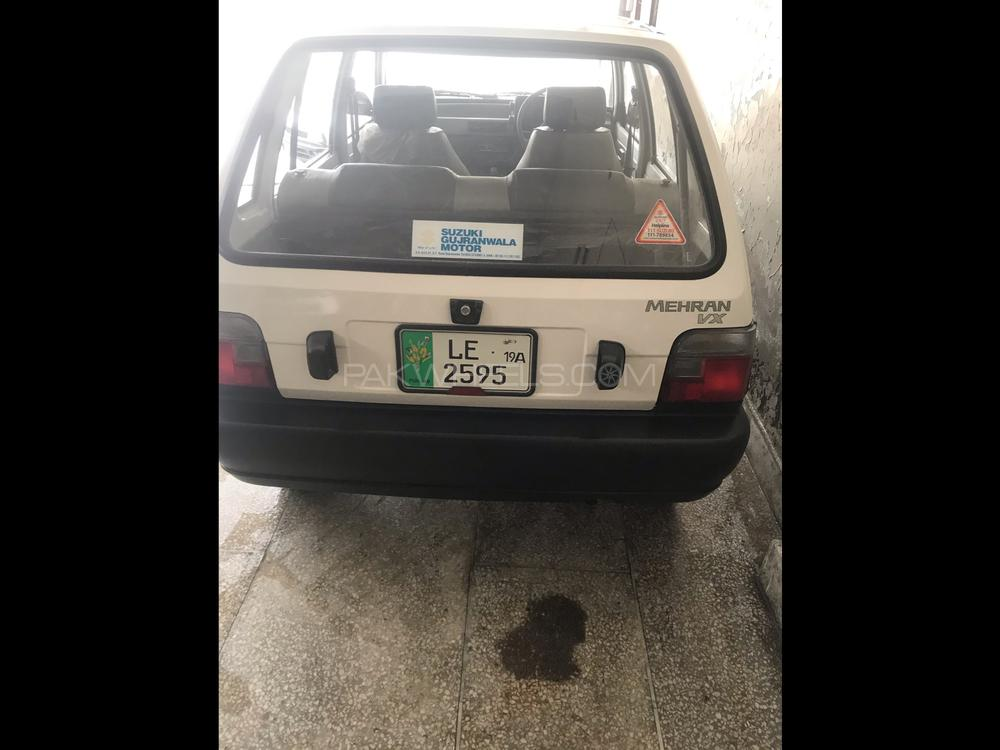plate: (393, 322, 540, 397)
